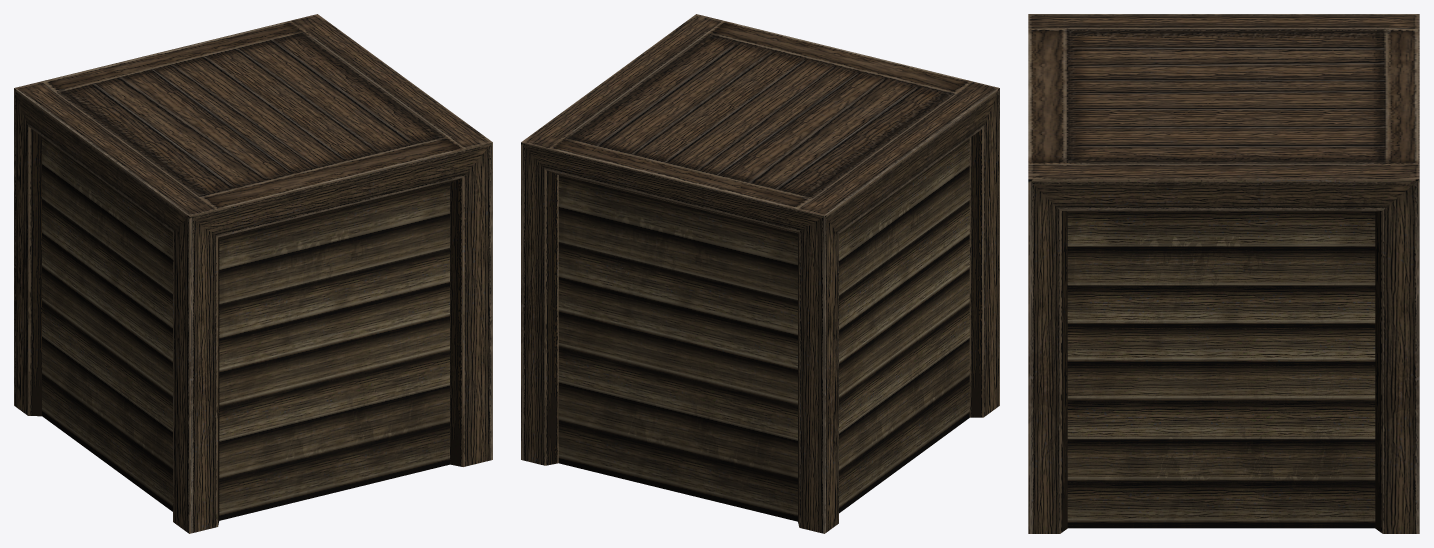
The model's file is House_4X4_04c.fbx.
3 renders of one model, left to right at view 1: azimuth 30°, elevation 25°; view 2: azimuth 150°, elevation 25°; view 3: azimuth 270°, elevation 25°, orthographic. The views are drawn at different scales.
Parts seen in each view (by area): view 1: House_4X4_04c; view 2: House_4X4_04c; view 3: House_4X4_04c.
Part boxes in pixels (x1,y1,x2,y2): House_4X4_04c: [14, 14, 492, 533]; House_4X4_04c: [521, 14, 999, 533]; House_4X4_04c: [1028, 14, 1419, 533].
Size of the model in its own units: 4 by 4 by 4.
